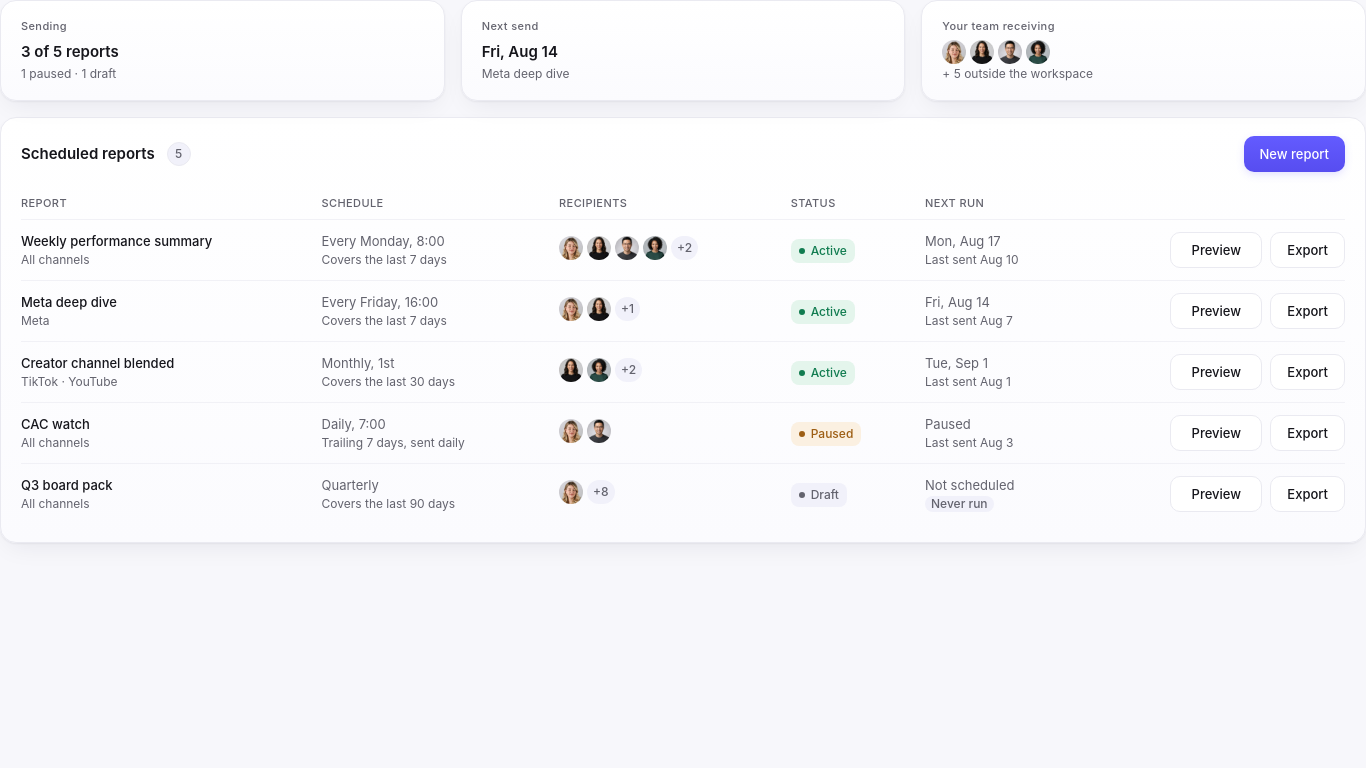
the Reports screen › Pause and Resume change the schedule, not just the pill
Expected: the row that starts with "Meta deep dive" shows "Fri, Aug 14", [925, 294, 990, 310]
Click the button with aria-label "Preview Meta deep dive".
click(1216, 311)  # box [1170, 293, 1262, 329]
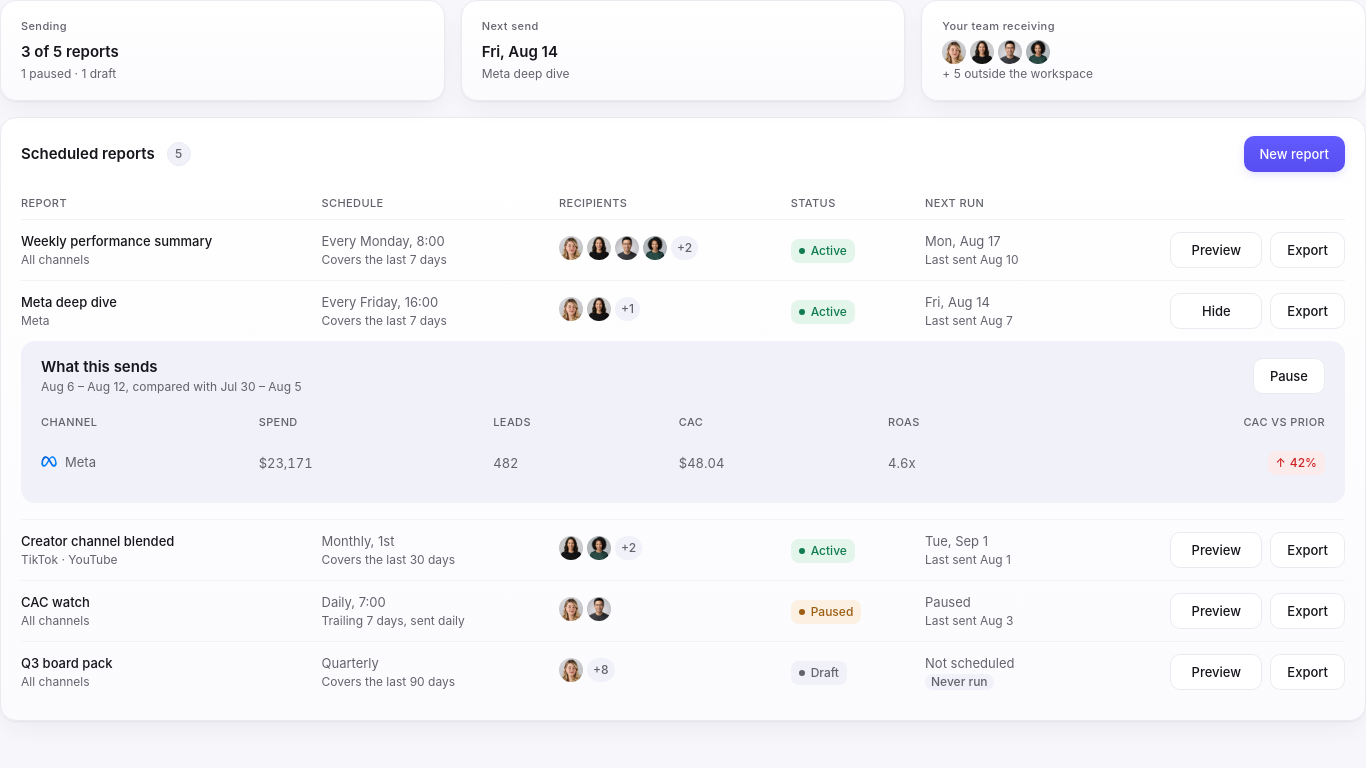
Click the button "Pause".
click(1289, 376)  # box [1253, 358, 1325, 394]
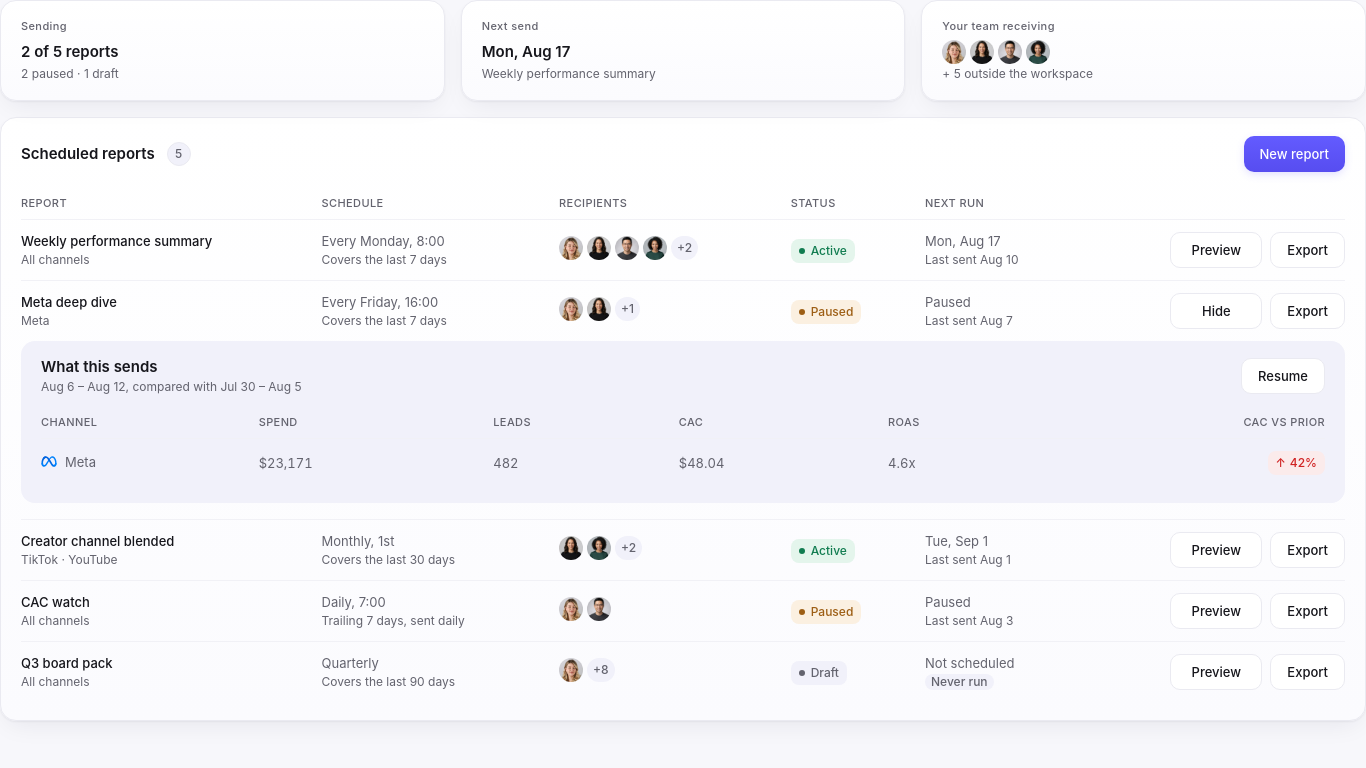
Now the text "Aug 14" is gone
Click the button "Resume".
click(1283, 376)  # box [1241, 358, 1325, 394]
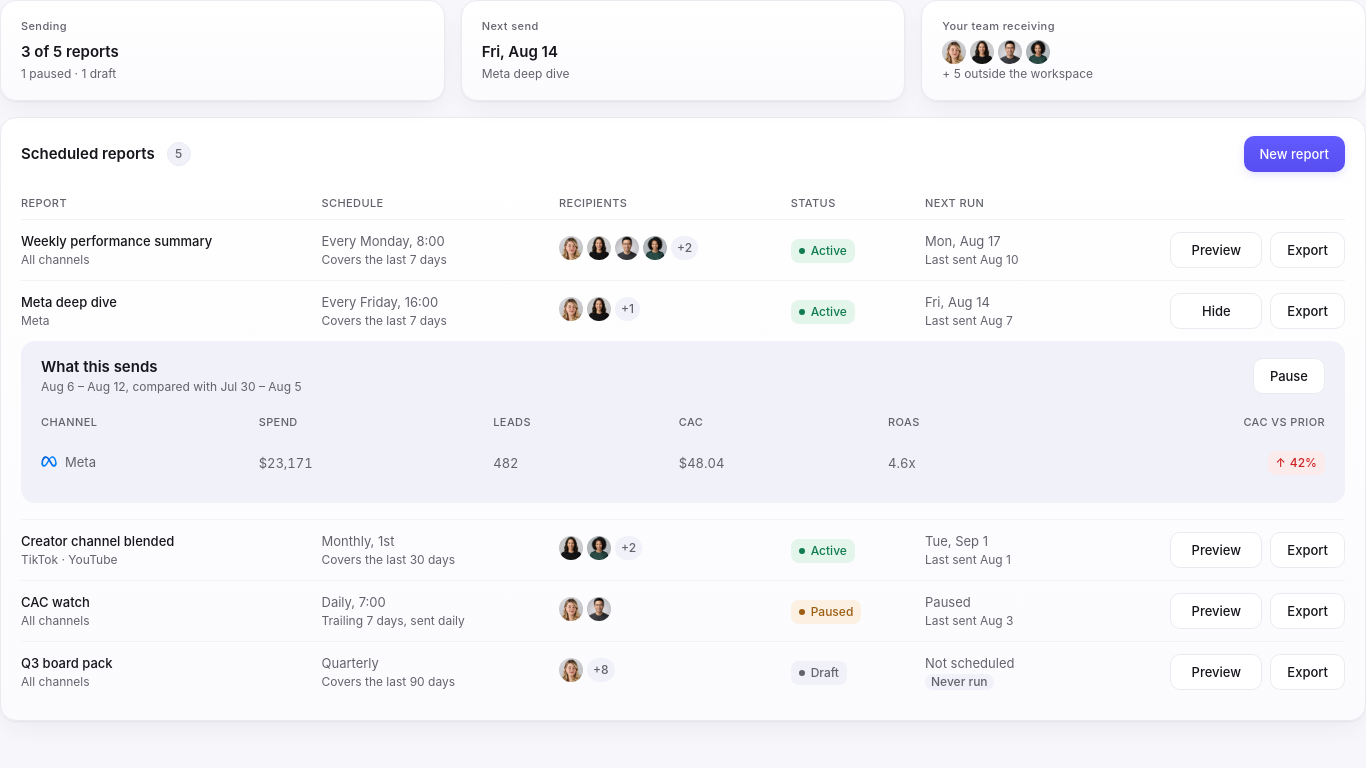
Now the row that starts with "Meta deep dive" shows "Fri, Aug 14", box [925, 294, 990, 310]
